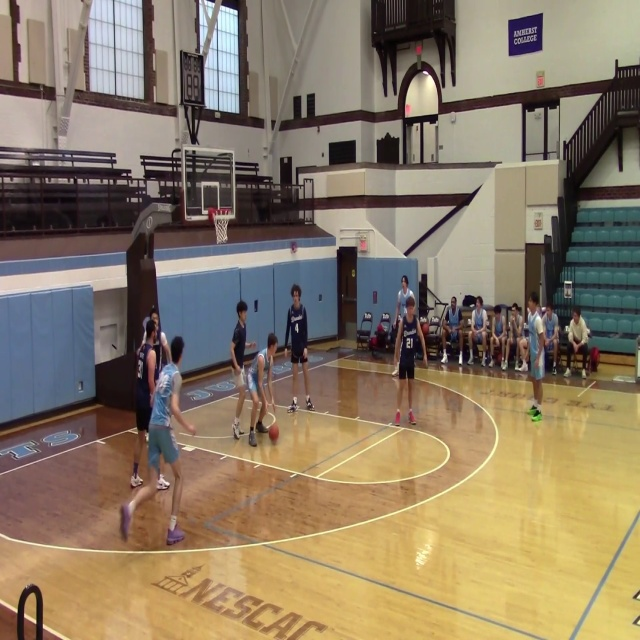Basketball: (268, 423, 279, 441), (405, 297, 414, 314), (421, 323, 429, 334)
